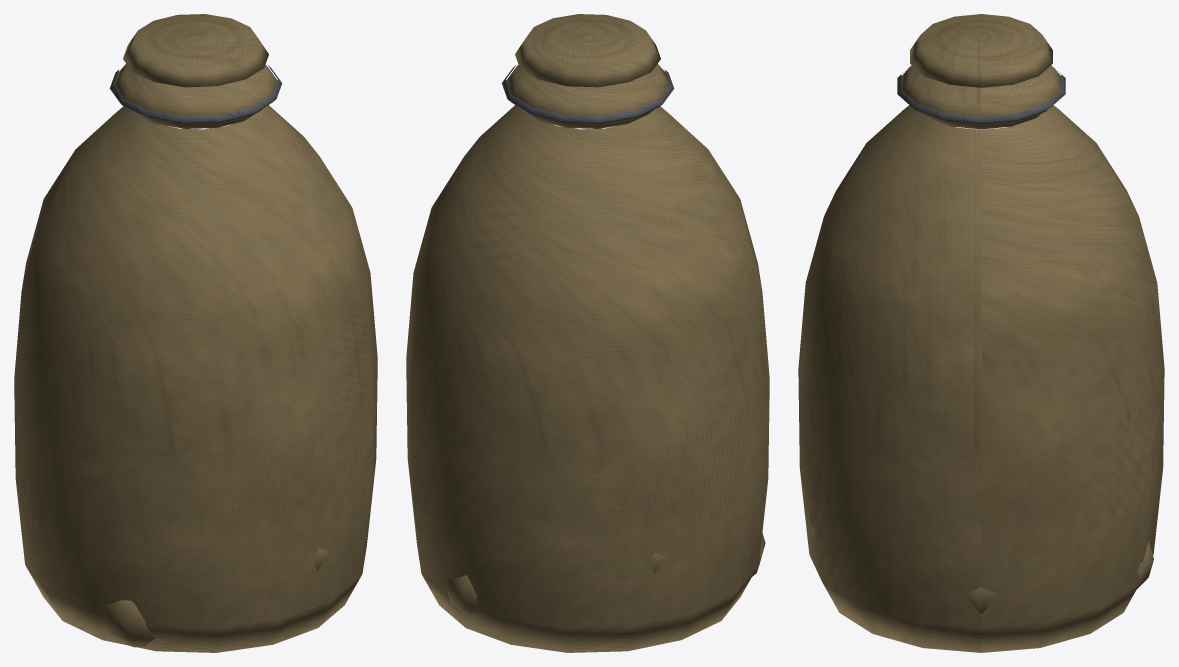
The model's file is prop.sack.glb.
The picture shows the model from 3 angles, left to right: view 1: azimuth 30°, elevation 25°; view 2: azimuth 150°, elevation 25°; view 3: azimuth 270°, elevation 25°; orthographic projection.
Parts seen in each view (by area): view 1: prop.sack; view 2: prop.sack; view 3: prop.sack.
Boxes of the visible parts, bbox=[...] form: prop.sack: bbox=[14, 14, 377, 652]; prop.sack: bbox=[406, 14, 769, 652]; prop.sack: bbox=[798, 14, 1164, 652].
Bounding box in the file's own units: 0.5 × 0.8326 × 0.5.
Materials: 2 (2 with a texture image).
